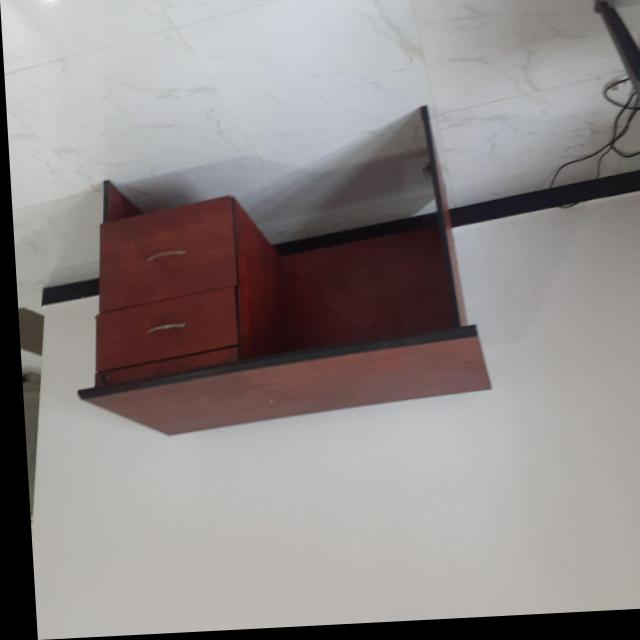Table: (42, 93, 509, 456)
